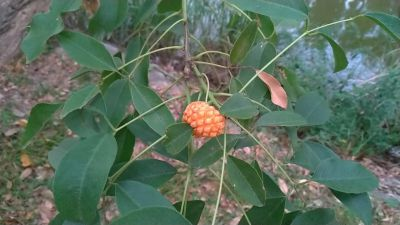eggs: (184, 96, 223, 137)
